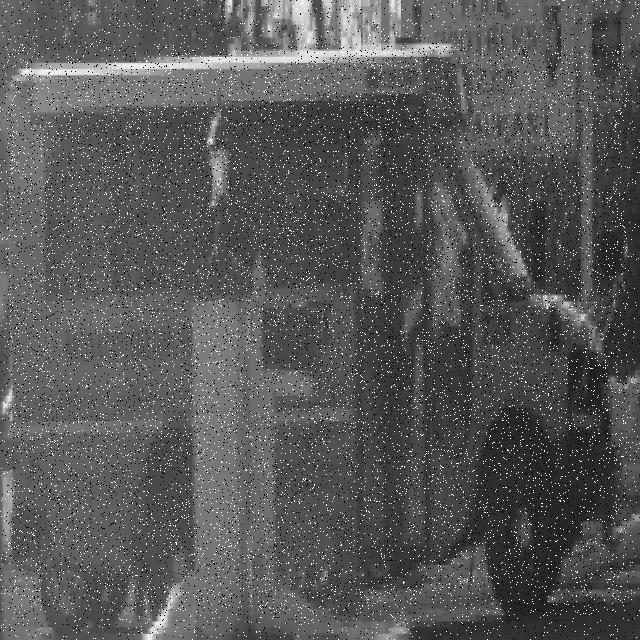Bus- Small: (7, 45, 627, 613)
